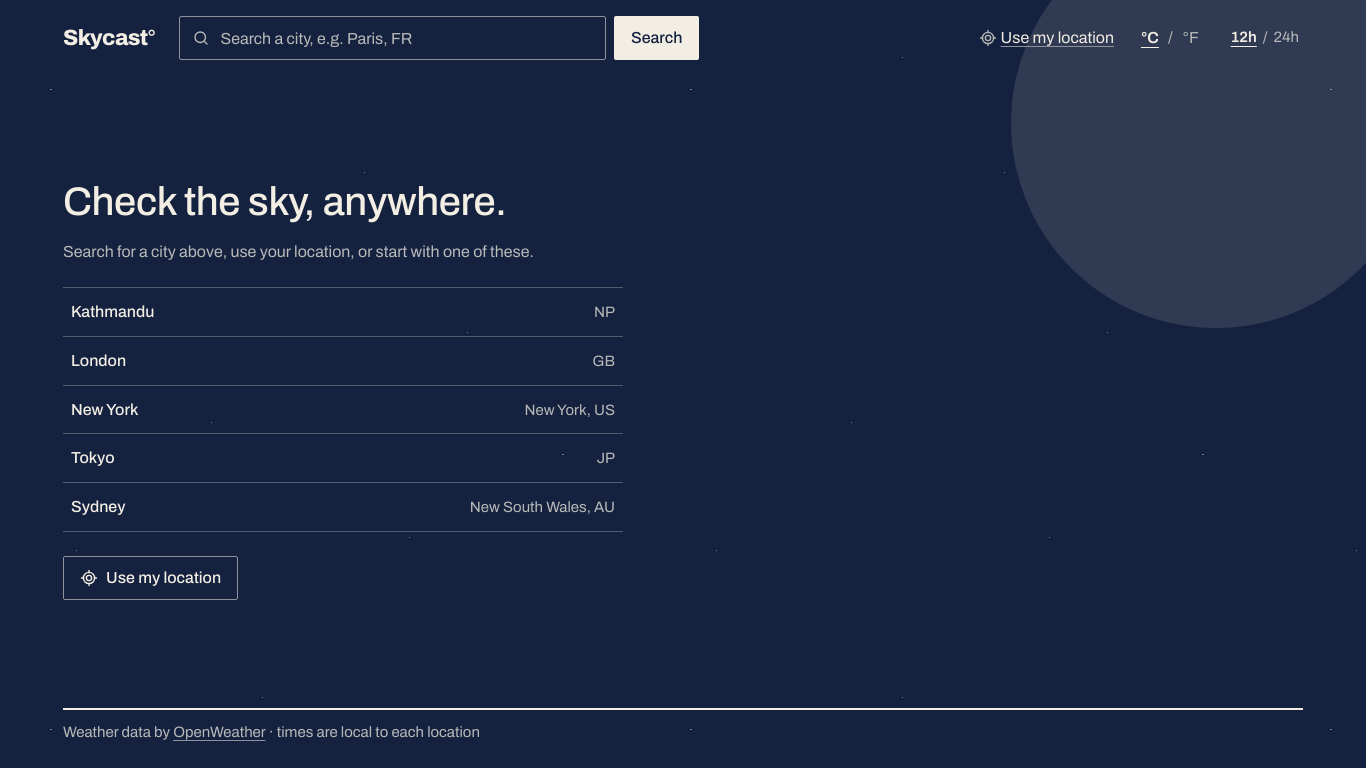
App › shows an error screen when the first search fails
Type "London" into the dropdown named "search for a city" at (406, 38), box top-left (218, 17), bottom-right (593, 59)
Then press Enter
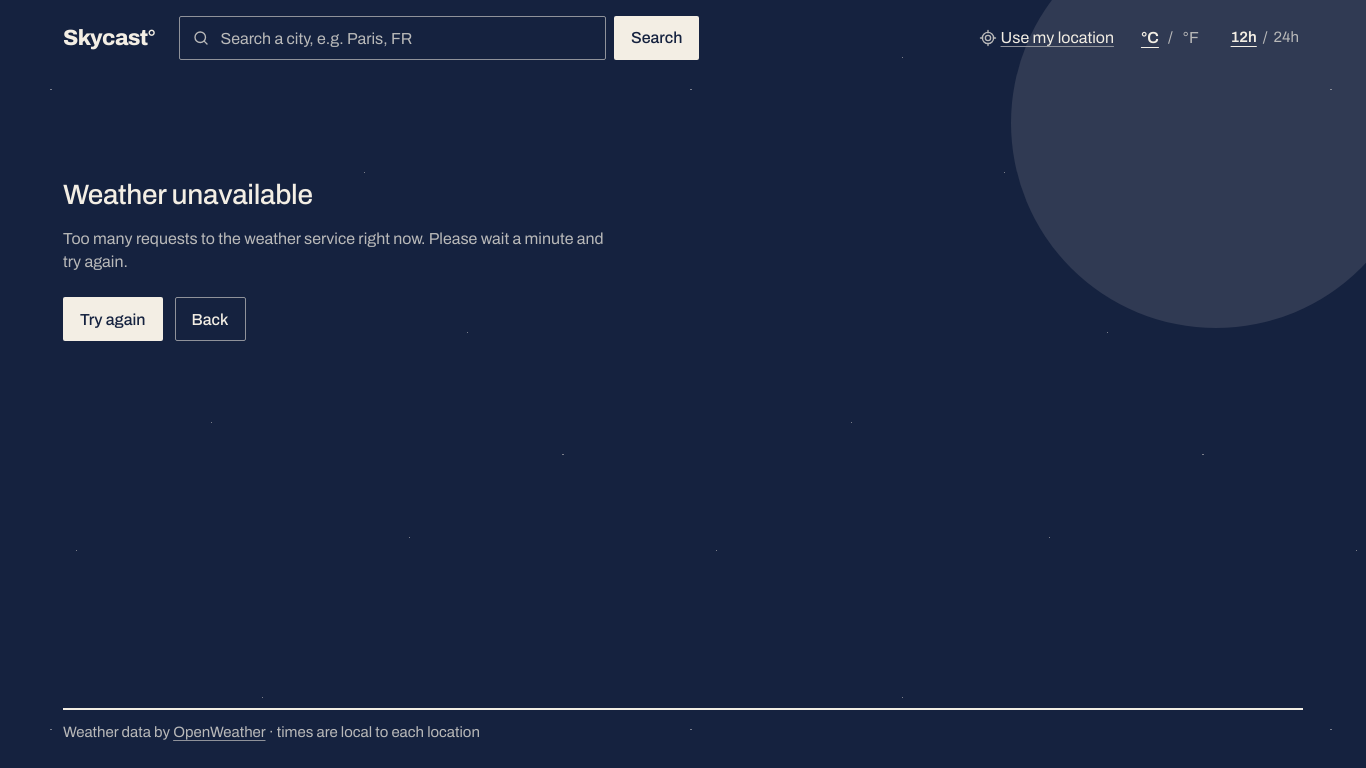
Now the heading "Weather unavailable" is shown, box top-left (63, 180), bottom-right (313, 211)
Now the text "Too many requests" is shown, box top-left (63, 230), bottom-right (604, 270)
